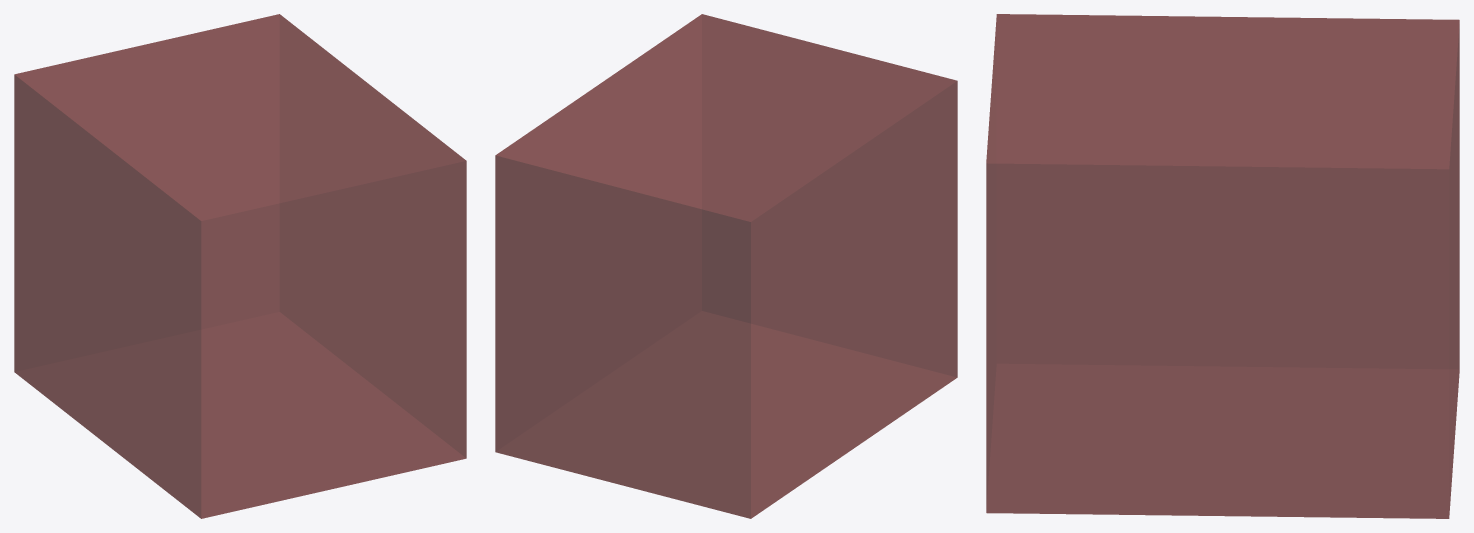
File: House7_Collider.fbx
The picture shows the model from 3 angles, left to right: view 1: azimuth 30°, elevation 25°; view 2: azimuth 150°, elevation 25°; view 3: azimuth 270°, elevation 25°; orthographic projection. The views are drawn at different scales.
Parts seen in each view (by area): view 1: BoundingBox45; view 2: BoundingBox45; view 3: BoundingBox45.
Part boxes in pixels (bbox=[...]): BoundingBox45: bbox=[14, 14, 466, 518]; BoundingBox45: bbox=[495, 14, 957, 518]; BoundingBox45: bbox=[986, 14, 1459, 518].
Size of the model in its own units: 19.52 by 20.49 by 25.16.
